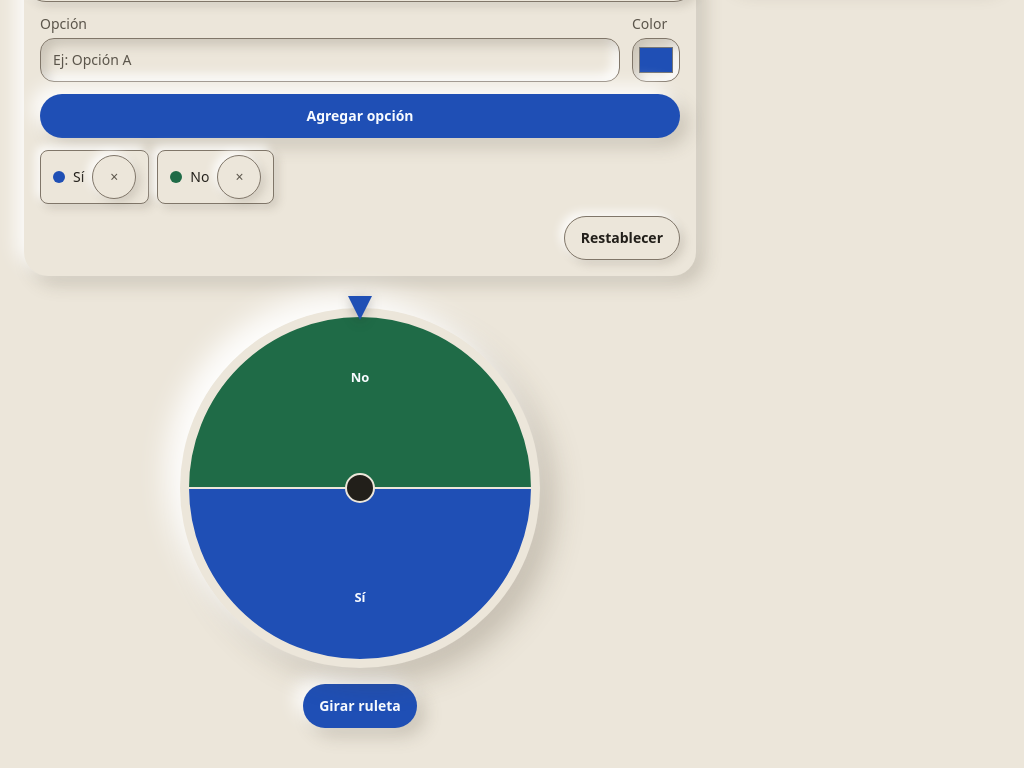
Test: limpieza de animaciones › al abrir el modal de resultado la ruleta, el diálogo queda abierto
The image size is (1024, 768).
(page scrolled)
Click the button "Girar ruleta": [360, 706] box [303,684,417,728]
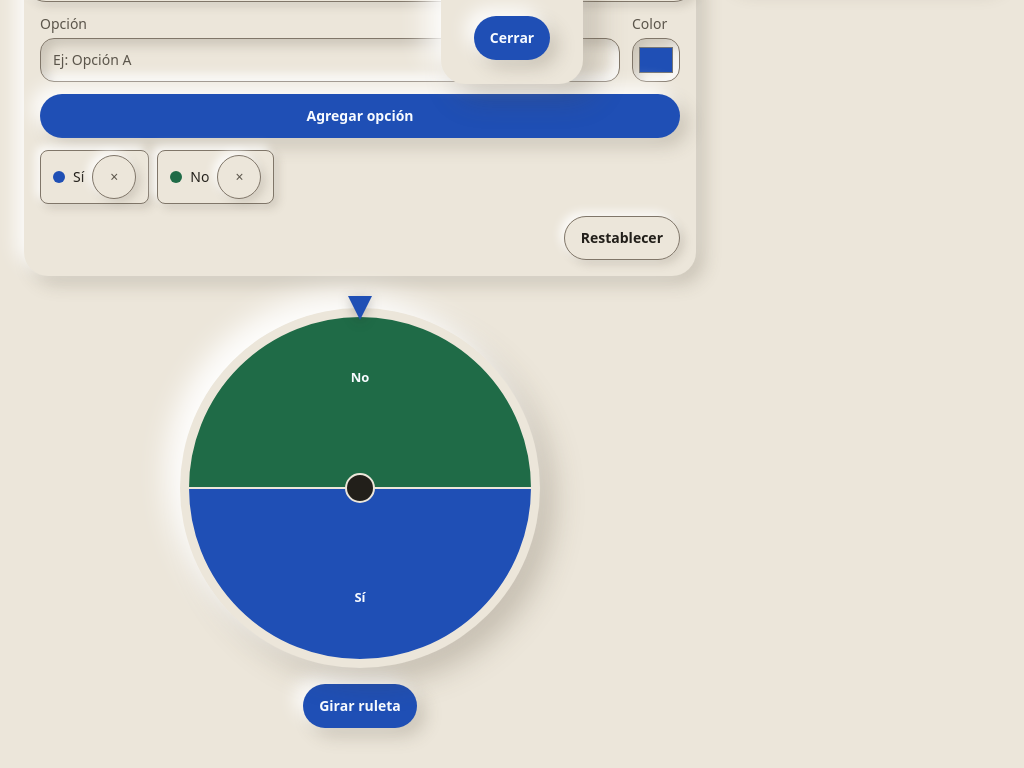
Expected: the button "Cerrar" is shown, [474,16,550,60]
